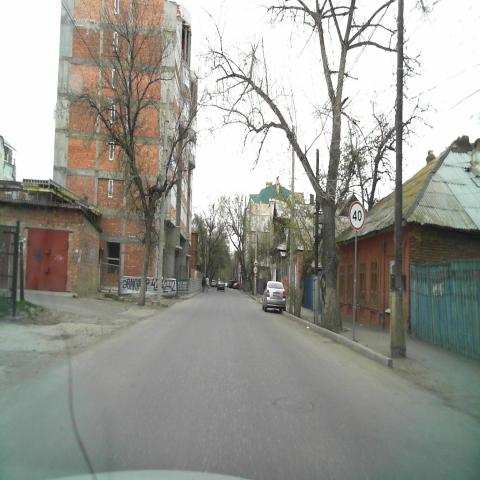3_24: (347, 201, 366, 231)
